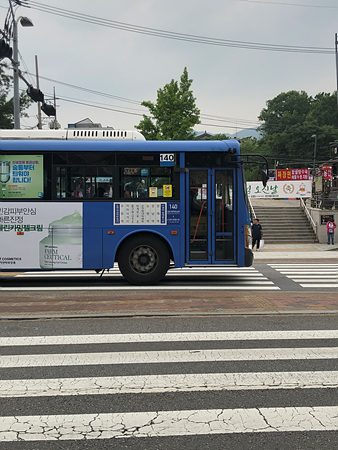entrance: (181, 154, 239, 270)
